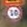limite 30: (4, 4, 22, 22)
